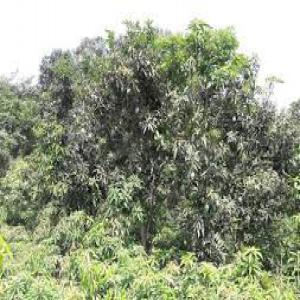Tree: (25, 15, 299, 276)
